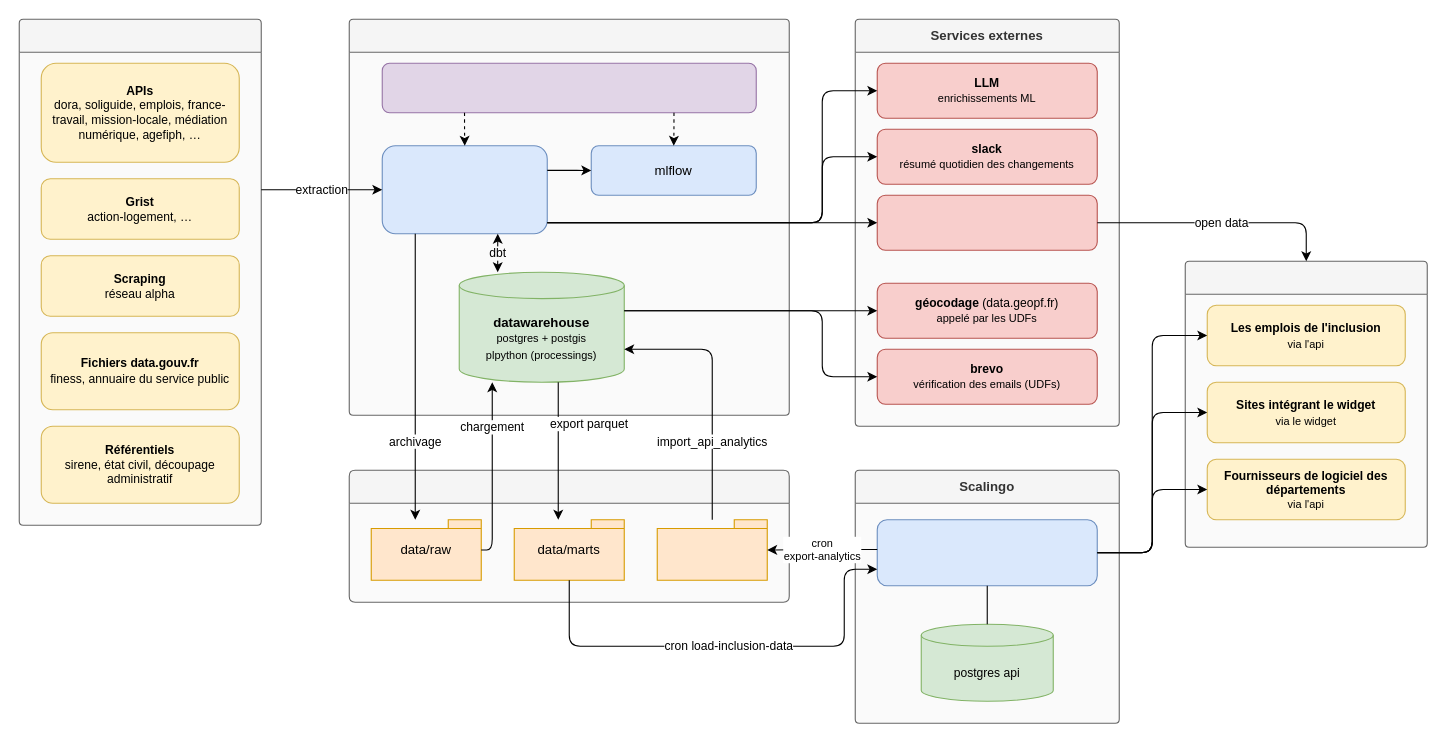
Some shapes in this 1447 by 743 pixel diagram are drawn without their labels. The shapes that lost their labels are listed below. From the top down, each one's box as (x1, y1, x2, y2) in pixels, then its label:
(381, 62, 756, 113): traefik (+ oauth2-proxy en prod)
(381, 145, 547, 234): airflow + dbt
(348, 18, 789, 415): Scaleway · instance (docker compose)
(876, 194, 1097, 250): data.gouv.fr open data (hebdomadaire)
(18, 18, 261, 525): Producteurs
(1184, 260, 1427, 547): Réutilisateurs
(348, 469, 789, 602): Scaleway · object storage (datalake)
(656, 519, 767, 580): data/api
(876, 519, 1097, 586): api data·inclusion fastapi, widget, valideur
